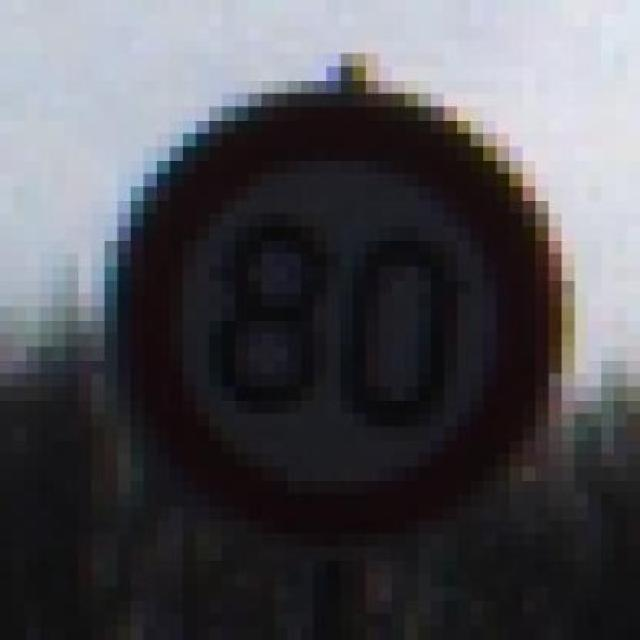forb_speed_over_80: (118, 98, 554, 534)
